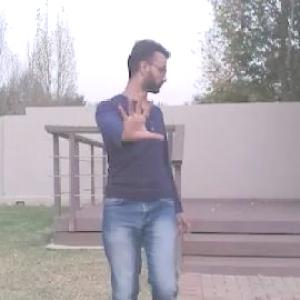follow_hand: (114, 91, 166, 145)
